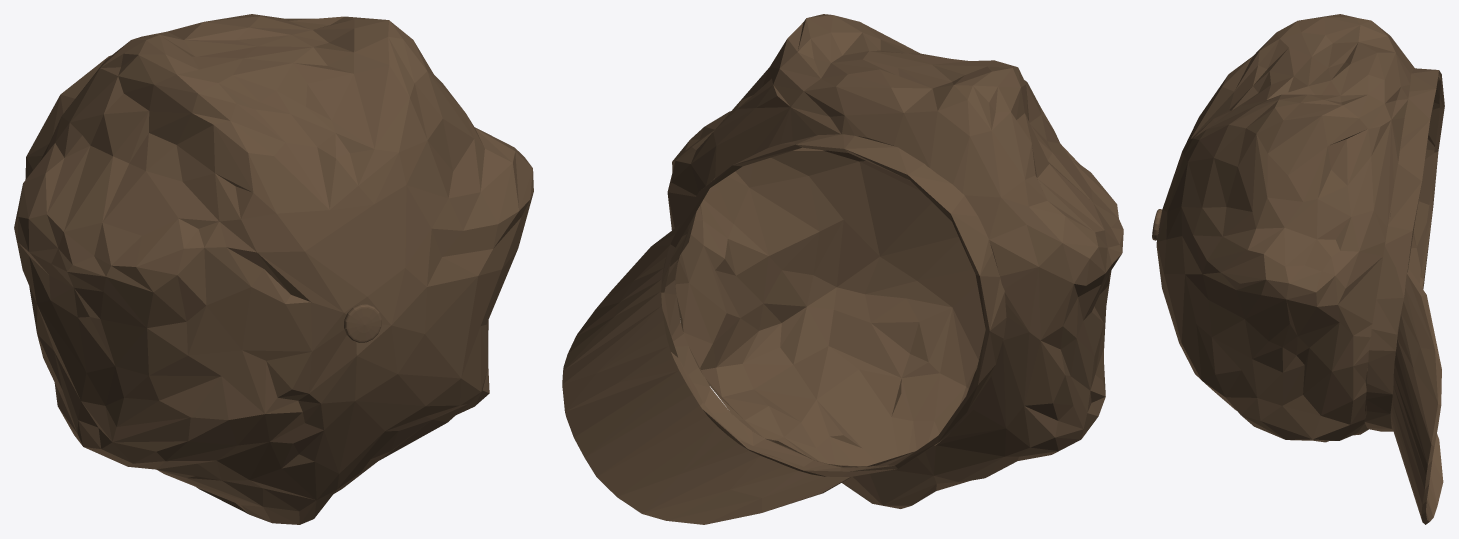
The picture shows the model from 3 angles, left to right: view 1: azimuth 30°, elevation 25°; view 2: azimuth 150°, elevation 25°; view 3: azimuth 270°, elevation 25°; orthographic projection. The views are drawn at different scales.
Parts seen in each view (by area): view 1: hat; view 2: hat; view 3: hat.
Part boxes in pixels (x1,y1,x2,y2): hat: [14, 14, 533, 524]; hat: [562, 14, 1123, 524]; hat: [1152, 14, 1444, 524].
Size of the model in its own units: 10.74 by 9.78 by 6.7.
